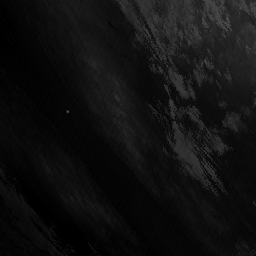Target: (65, 109, 69, 114)
